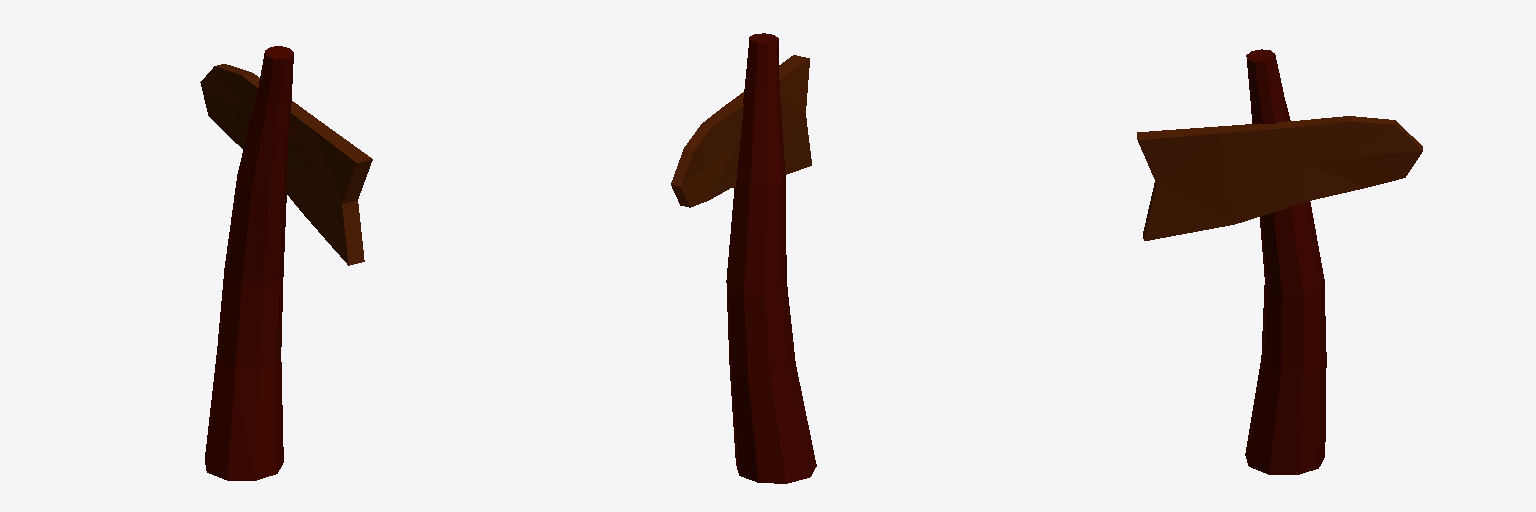
Rendered from Signpost.obj.
The picture shows the model from 3 angles: view 1: azimuth 30°, elevation 25°; view 2: azimuth 150°, elevation 25°; view 3: azimuth 270°, elevation 25°; orthographic projection.
Visible parts, largest first — view 1: Pfosten2, Schild_2; view 2: Pfosten2, Schild_2; view 3: Schild_2, Pfosten2.
Boxes of the visible parts, box(x1,y1,x2,y2) form: Pfosten2: box(205, 46, 293, 480); Schild_2: box(200, 64, 372, 265); Pfosten2: box(726, 33, 816, 483); Schild_2: box(671, 55, 811, 207); Schild_2: box(1137, 116, 1422, 240); Pfosten2: box(1245, 49, 1326, 474).
Size of the model in its own units: 0.2779 by 1.21 by 0.7531.